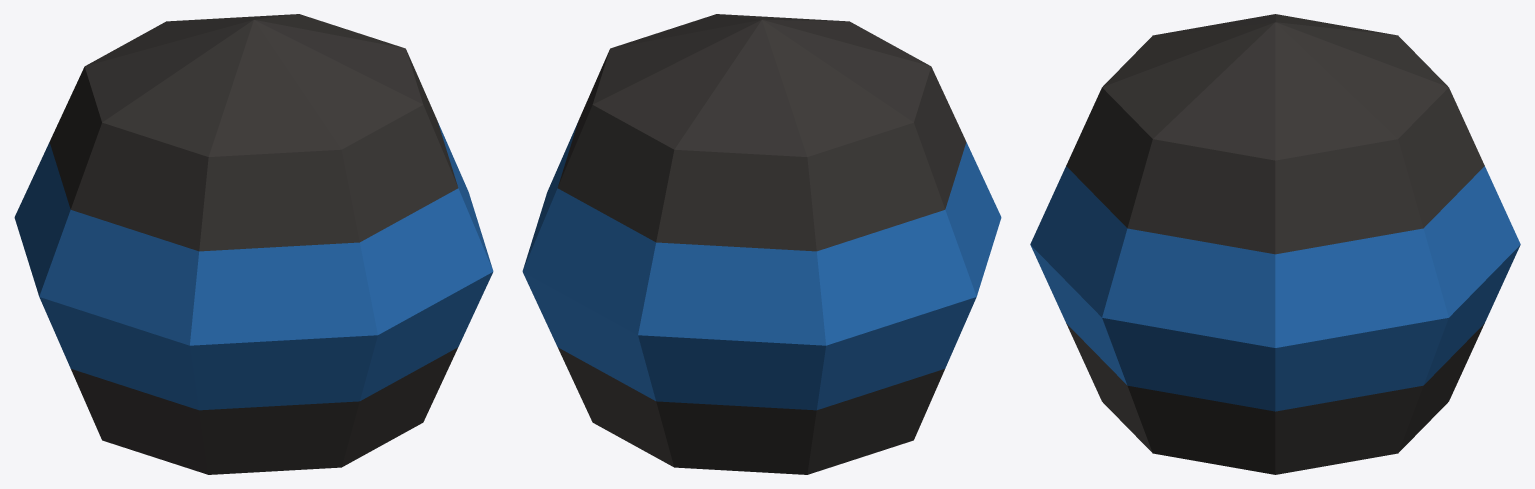
The model's file is TB_CanonTower_Lvl2_Ball.FBX.
3 views of the same model, side by side, from view 1: azimuth 30°, elevation 25°; view 2: azimuth 150°, elevation 25°; view 3: azimuth 270°, elevation 25° (orthographic).
Visible parts, largest first — view 1: TB_CanonTower_Lvl2_Ball; view 2: TB_CanonTower_Lvl2_Ball; view 3: TB_CanonTower_Lvl2_Ball.
Boxes of the visible parts, left/top/right/bottom form: TB_CanonTower_Lvl2_Ball: left=14, top=14, right=493, bottom=474; TB_CanonTower_Lvl2_Ball: left=522, top=14, right=1001, bottom=474; TB_CanonTower_Lvl2_Ball: left=1030, top=14, right=1520, bottom=474.
Bounding box in the file's own units: 2.15 × 2.15 × 2.15.
